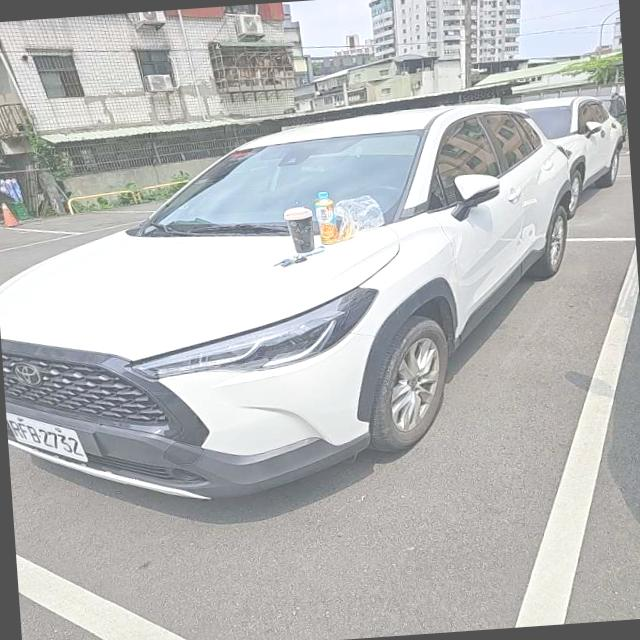license plate: (6, 413, 86, 461)
wheel: (370, 317, 447, 452)
